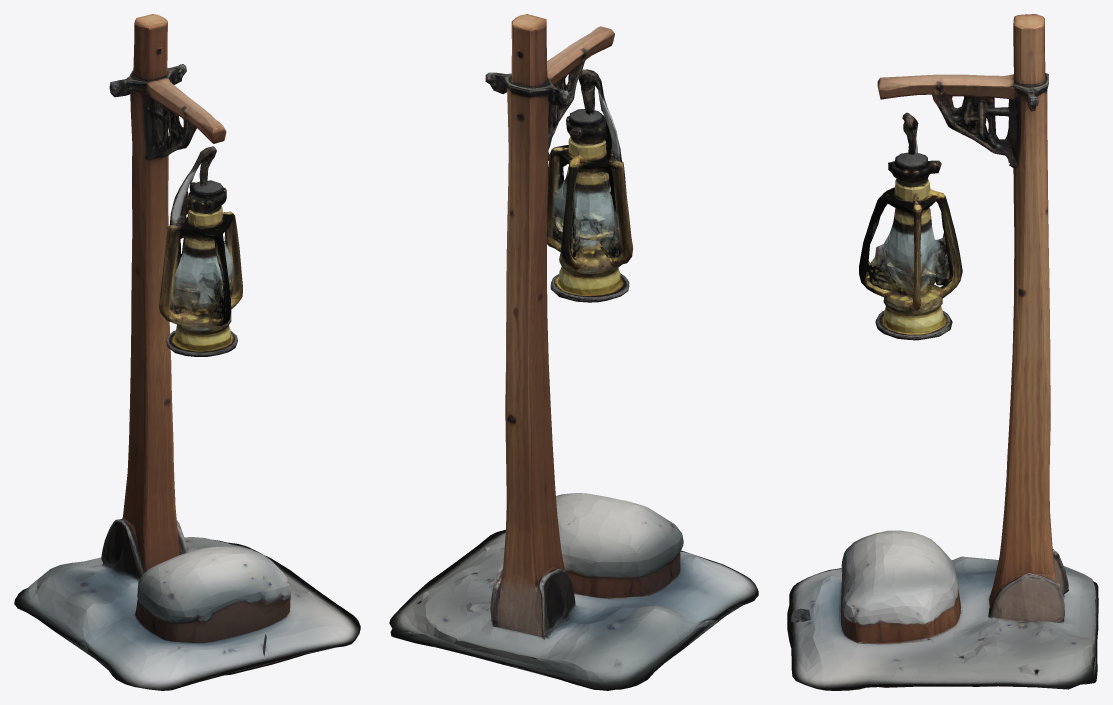
The model's file is farol.glb.
3 renders of one model, left to right at view 1: azimuth 30°, elevation 25°; view 2: azimuth 150°, elevation 25°; view 3: azimuth 270°, elevation 25°, orthographic. The views are drawn at different scales.
Parts seen in each view (by area): view 1: world; view 2: world; view 3: world.
Part boxes in pixels (box(x1,y1,x2,y2)): world: box(14, 14, 360, 690); world: box(389, 14, 758, 690); world: box(787, 14, 1098, 690).
Bounding box in the file's own units: 0.441 × 0.9988 × 0.459.
Materials: 1 (1 with a texture image).
